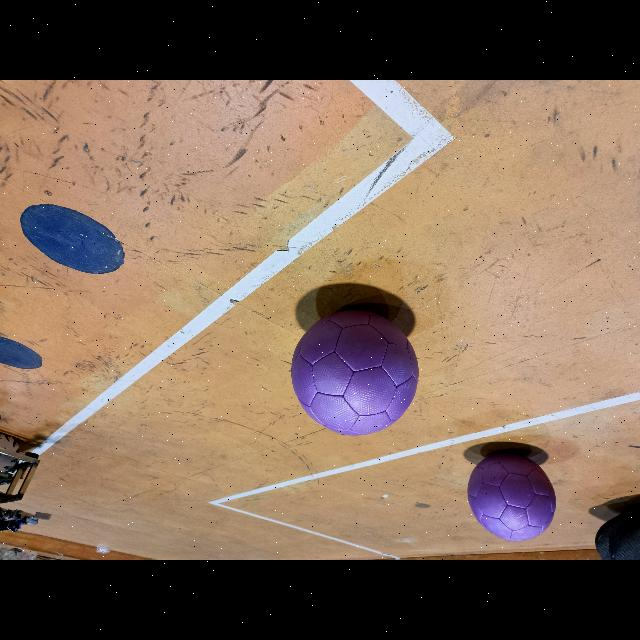P: (292, 310, 418, 436), (468, 452, 556, 542)
